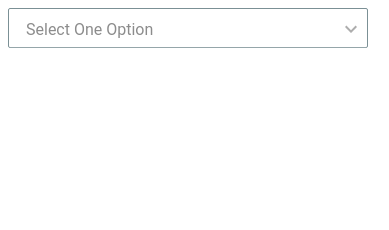
Scenario: DropDownWithMultiSelect component › User should  be able to select dropdown Option
Press ArrowDown in the text "Select One Option", box top-left (26, 20), bottom-right (153, 38)
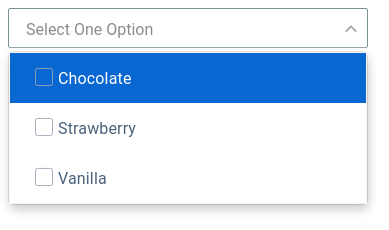
Click the text "Vanilla": (71, 177) top-left (35, 166), bottom-right (107, 188)
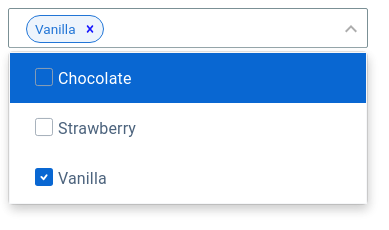
Click the text "Strawberry": (86, 127) top-left (35, 116), bottom-right (136, 138)
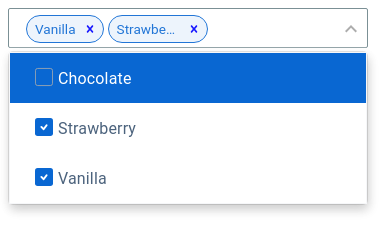
Result: the element with test id "value-container" reads "Vanilla Strawberry" at top-left (24, 13), bottom-right (216, 45)
